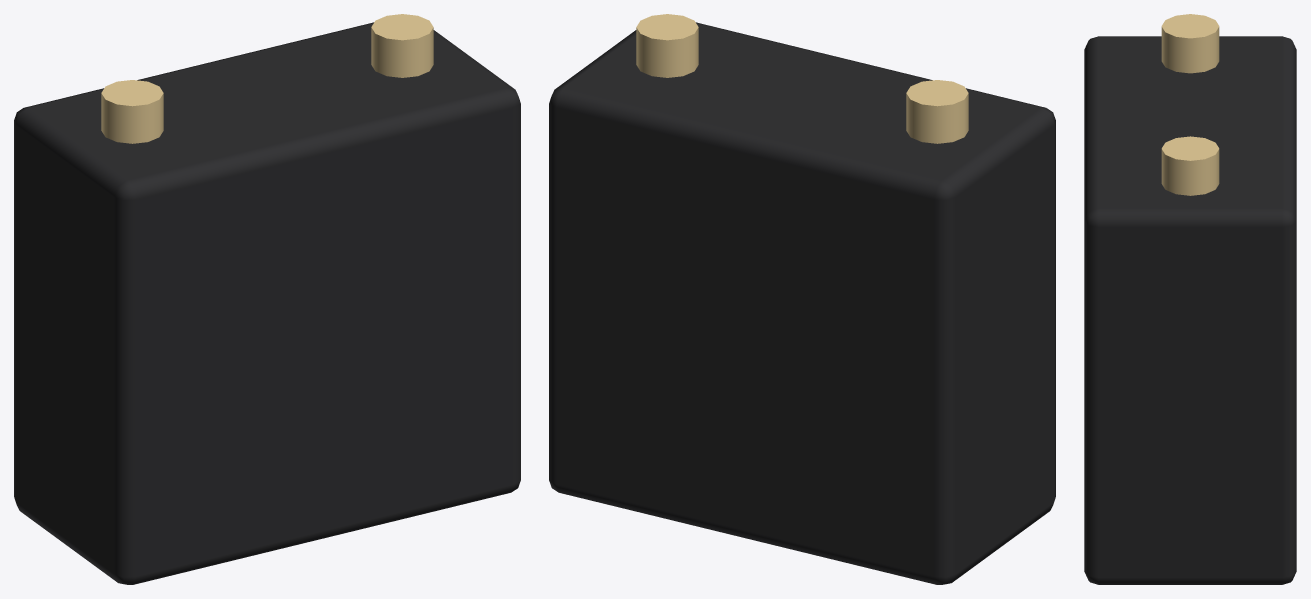
The model's file is bike_step_through__battery.glb.
3 renders of one model, left to right at view 1: azimuth 30°, elevation 25°; view 2: azimuth 150°, elevation 25°; view 3: azimuth 270°, elevation 25°, orthographic. The views are drawn at different scales.
Visible parts, largest first — view 1: electrical__battery, electrical__battery__terminals; view 2: electrical__battery, electrical__battery__terminals; view 3: electrical__battery, electrical__battery__terminals.
Boxes of the visible parts, box(x1,y1,x2,y2) form: electrical__battery: box(14, 22, 520, 584); electrical__battery__terminals: box(101, 14, 433, 143); electrical__battery: box(549, 22, 1055, 584); electrical__battery__terminals: box(636, 14, 968, 143); electrical__battery: box(1084, 36, 1296, 584); electrical__battery__terminals: box(1161, 14, 1219, 195).
Bounding box in the file's own units: 9 × 9.4 × 4.4.
